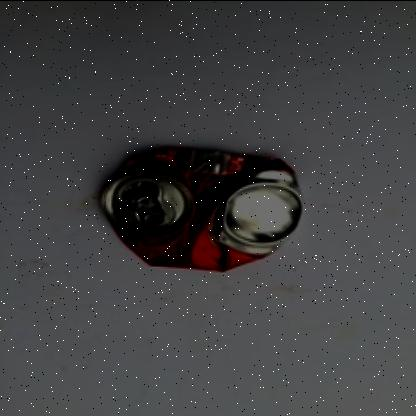Can: (98, 147, 302, 269)
